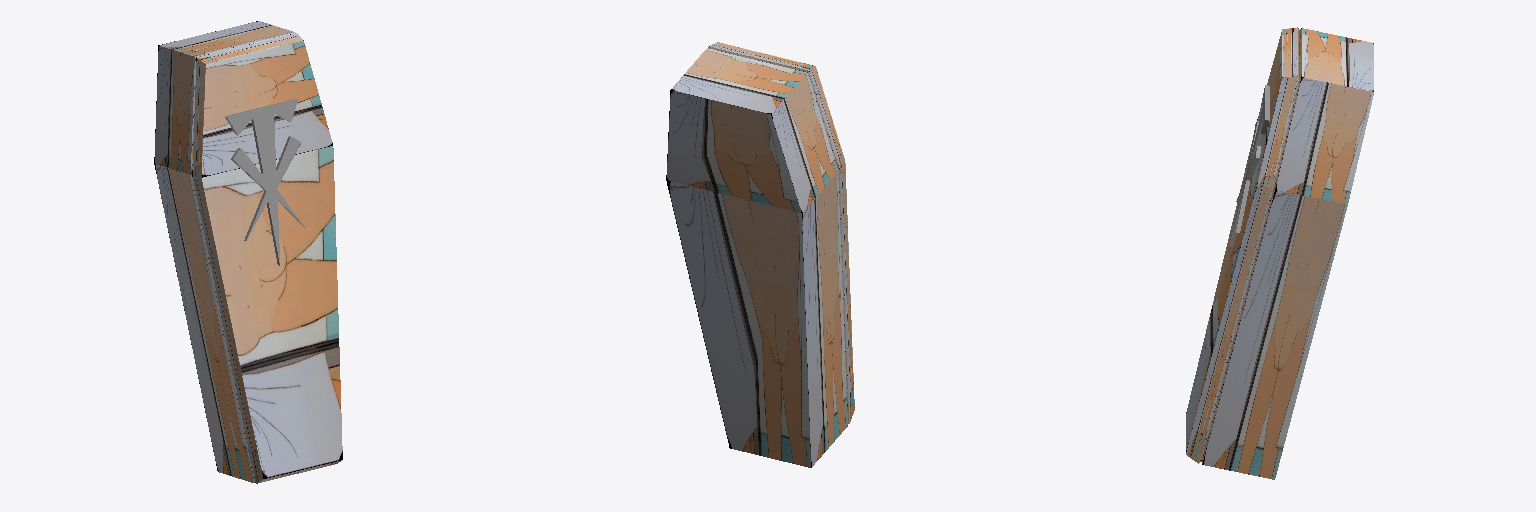
3 views of the same model, side by side, from view 1: azimuth 30°, elevation 25°; view 2: azimuth 150°, elevation 25°; view 3: azimuth 270°, elevation 25° (orthographic).
Parts seen in each view (by area): view 1: coffin_Cube.002_Material.003, symbol_Cube.001; view 2: coffin_Cube.002_Material.003; view 3: coffin_Cube.002_Material.003, symbol_Cube.001.
Part boxes in pixels (x1,y1,x2,y2): coffin_Cube.002_Material.003: (154,21,342,483); symbol_Cube.001: (225,99,304,265); coffin_Cube.002_Material.003: (666,42,854,467); coffin_Cube.002_Material.003: (1186,27,1373,479); symbol_Cube.001: (1229,85,1269,246).
Size of the model in its own units: 2.69 by 7.75 by 3.25.
2 materials, 1 textured.